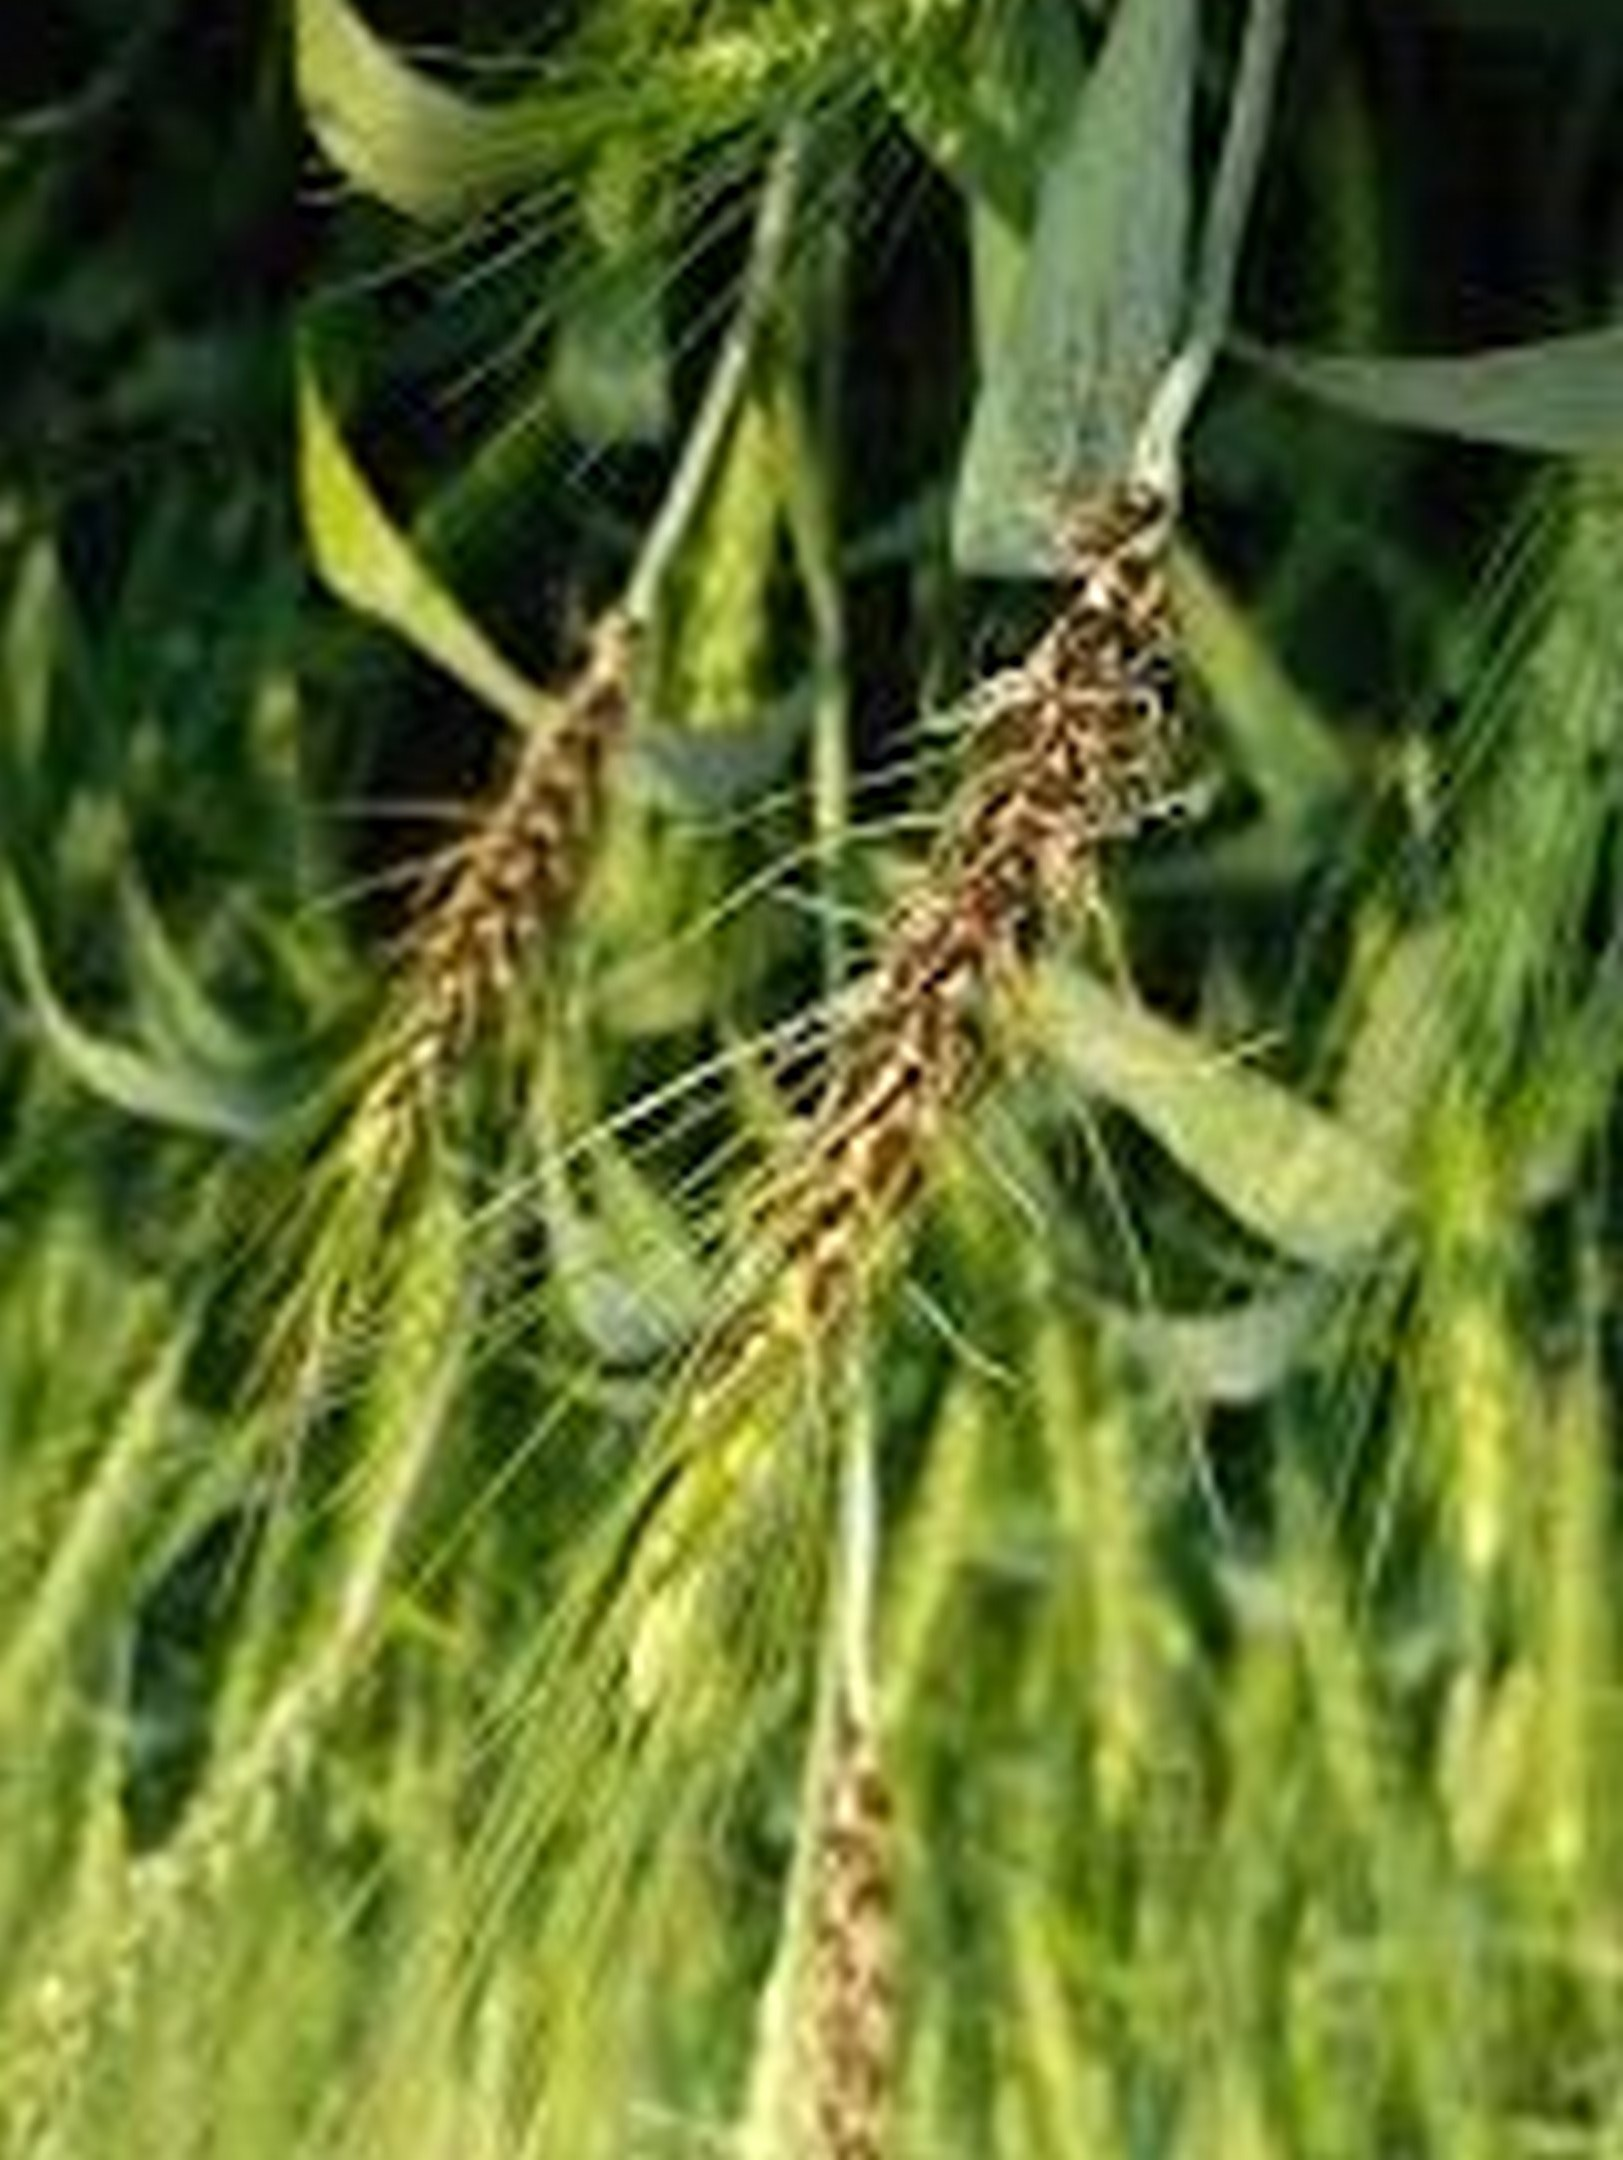Wheat Loose Smut: (702, 539, 1216, 1304)
